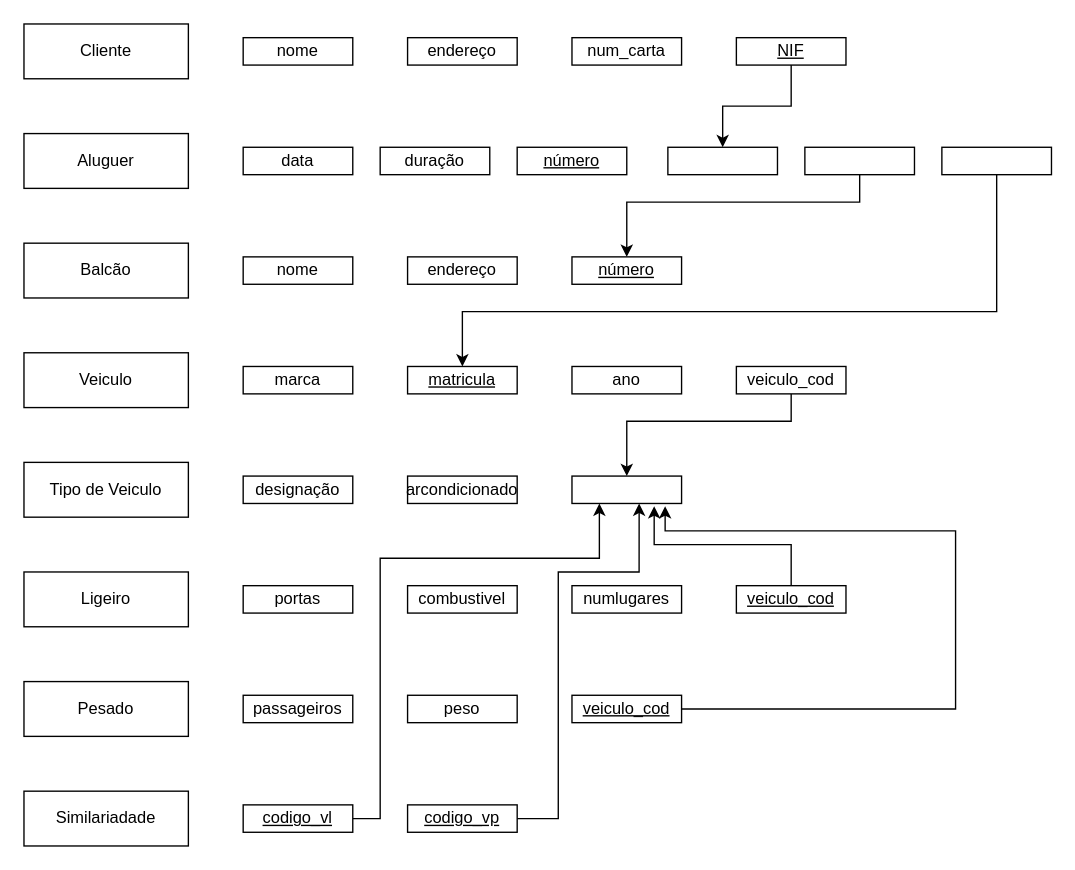
This 1075x870 diagram has some shape labels left out. Here are the shapes that lost their labels. From the top down, the centre of each, then its label:
At [722,160]: "nif_cliente".
At [859,160]: "num_bal".
At [996,160]: "mat_veiculo".
At [626,489]: "código".
